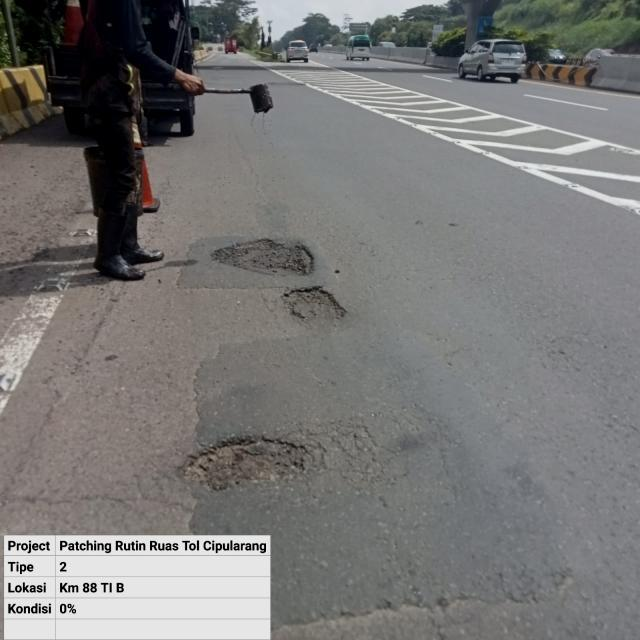Buraco: (175, 432, 313, 496), (207, 236, 318, 279), (278, 283, 351, 322)
